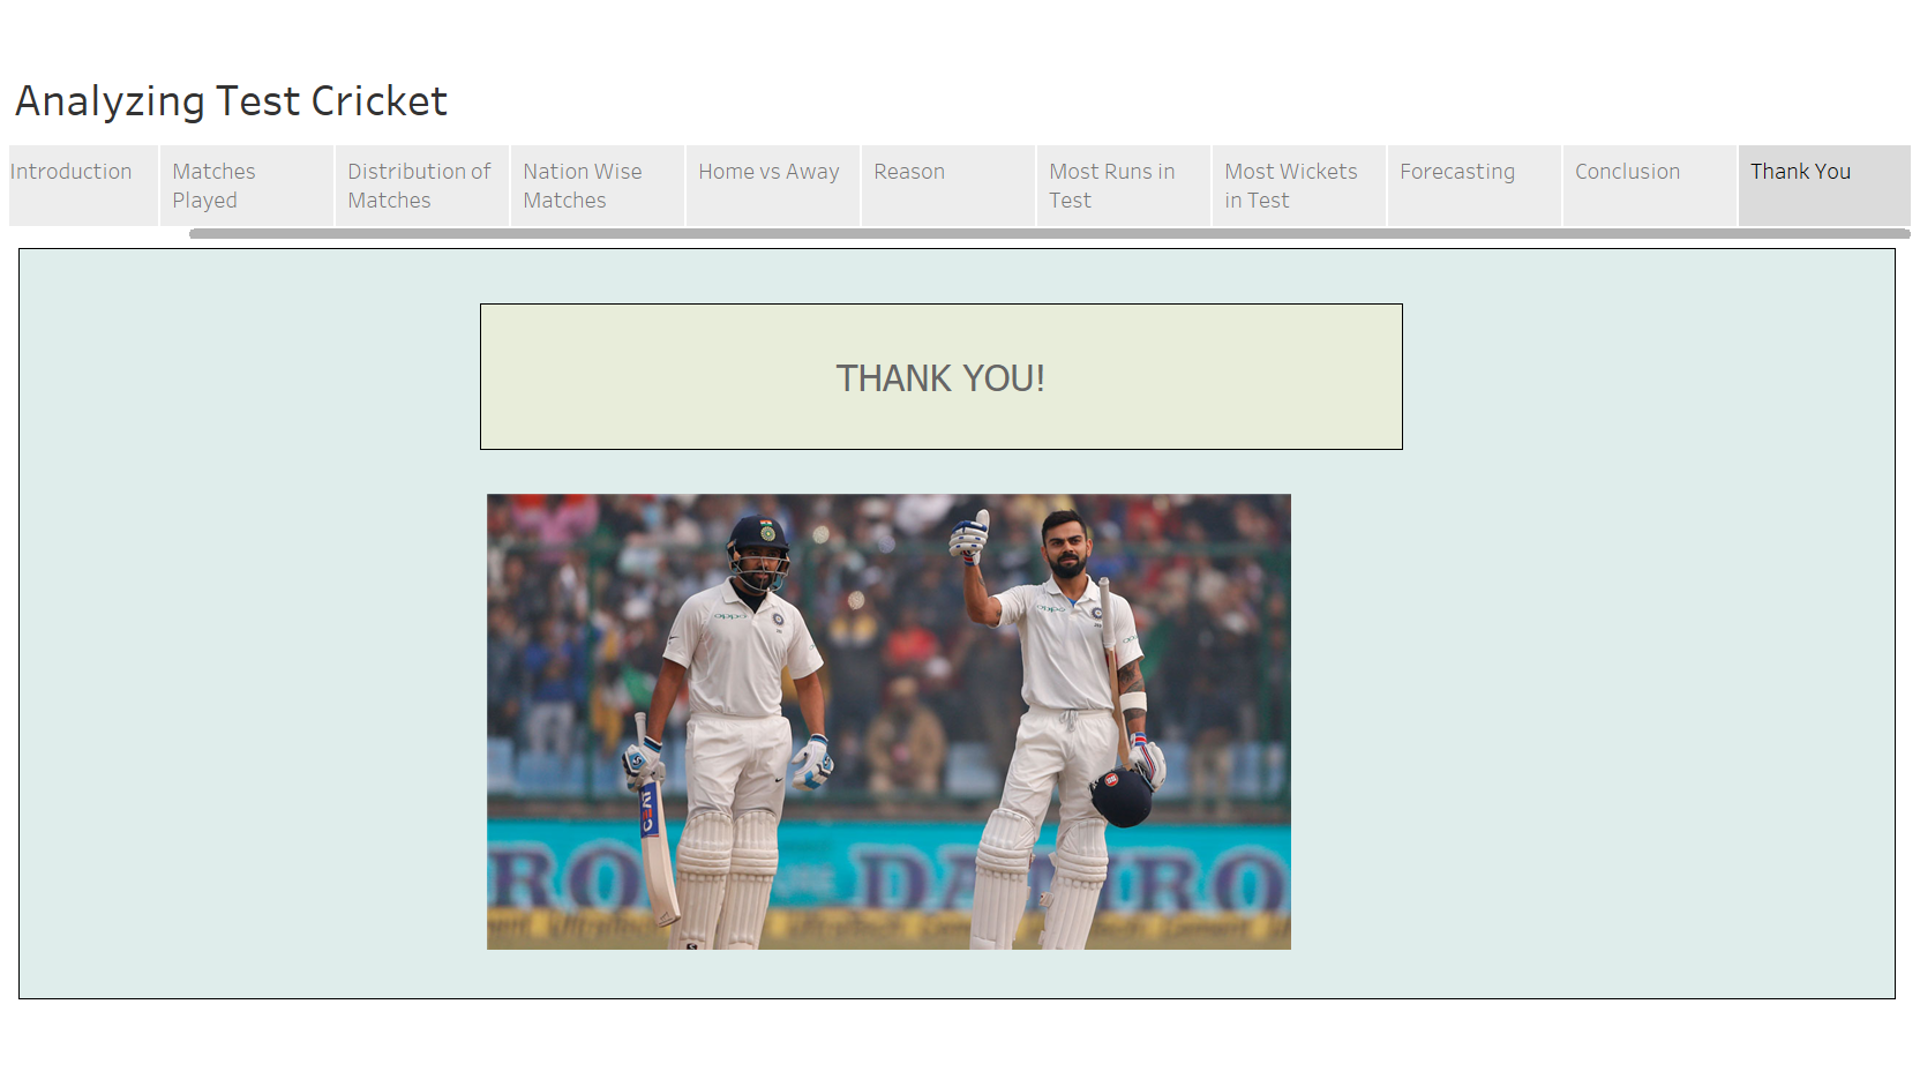

Layout of this report page (visuals, bound fields, positions):
{"tool":"tableau","page":{"name":"Dashboard 11","canvas":[1000,1000],"units":"permille","ordinal":2},"visuals":[{"type":"blank","box":[4.8,4.8,987.4,981.9]},{"type":"text","box":[247.6,77.1,485.6,191.6]},{"type":"image","param":"C:/Users/athar/Downloads/kohlipujara-1566798891.jpg","box":[251.2,326.5,520.4,595.2]}]}

Visuals, with their boxes on the dashboard's canvas, which has no fixed pixel size, in thousandths of its width and height (x1, y1, x2, y2). These are canvas units, not pixel positions in the 1920x1080 screenshot, which may show the page scaled, cropped or inside an application window:
blank: [5,5,992,987]
text: [248,77,733,269]
image: [251,326,772,922]
